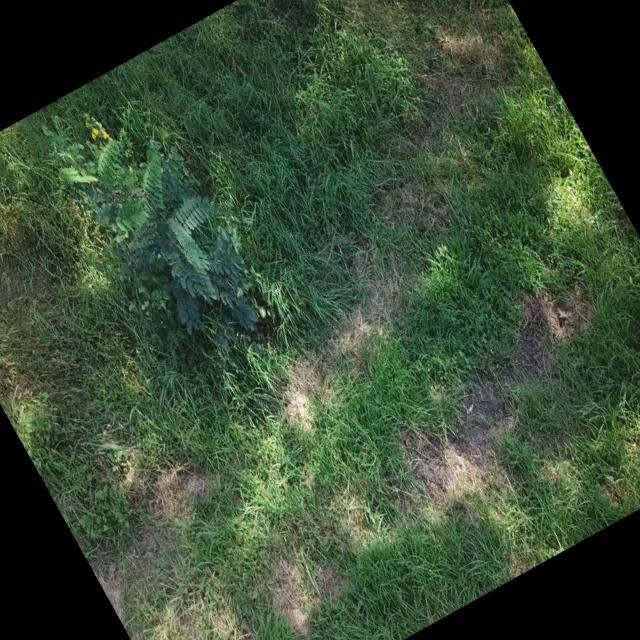Mysore-Thorn-Weed: (27, 64, 292, 389)
